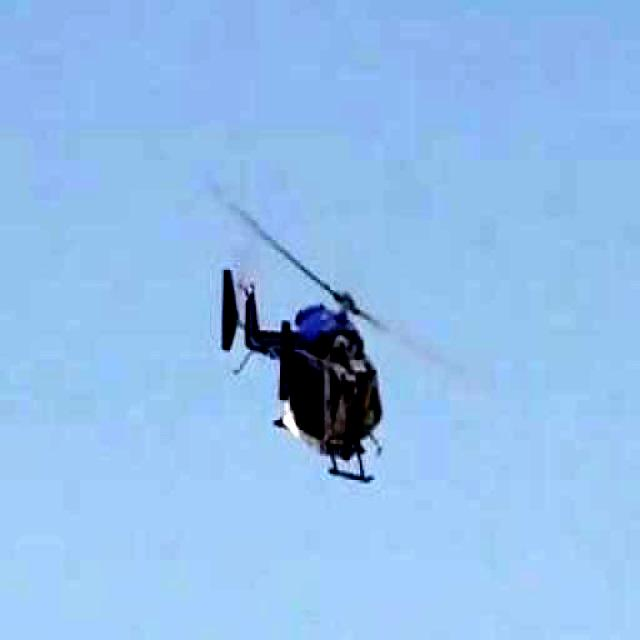drone: (186, 212, 502, 510)
